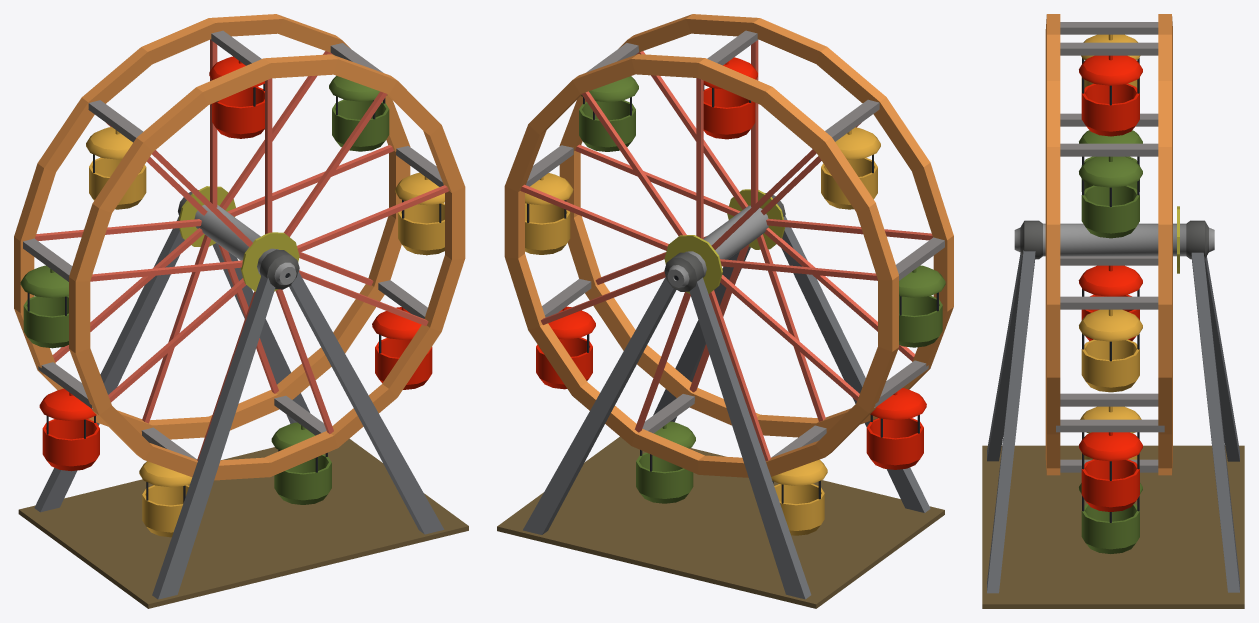
The model's file is Atraction_1.fbx.
3 renders of one model, left to right at view 1: azimuth 30°, elevation 25°; view 2: azimuth 150°, elevation 25°; view 3: azimuth 270°, elevation 25°, orthographic.
Visible parts, largest first — view 1: Atraction_1; view 2: Atraction_1; view 3: Atraction_1.
Boxes of the visible parts, x1,y1,x2,y2 form: Atraction_1: (14, 14, 468, 608); Atraction_1: (497, 14, 953, 608); Atraction_1: (982, 14, 1244, 608).
Size of the model in its own units: 1332 by 1437 by 696.
